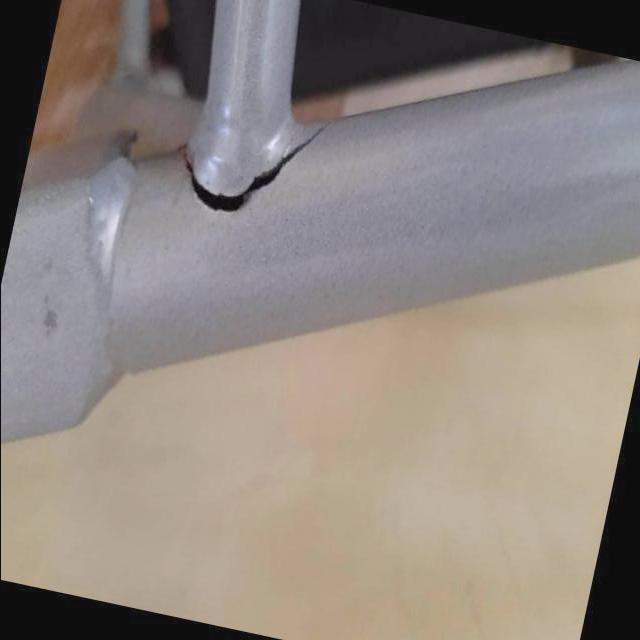defect: (173, 113, 334, 218)
